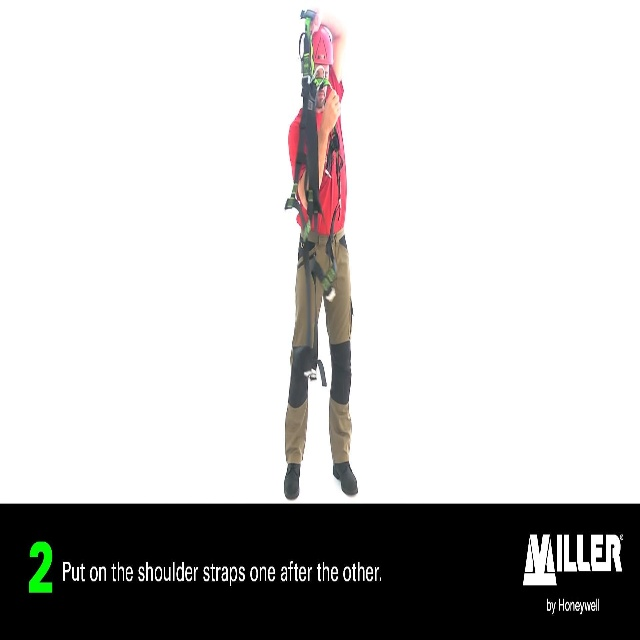Arnes_seguridad: (283, 0, 343, 389)
